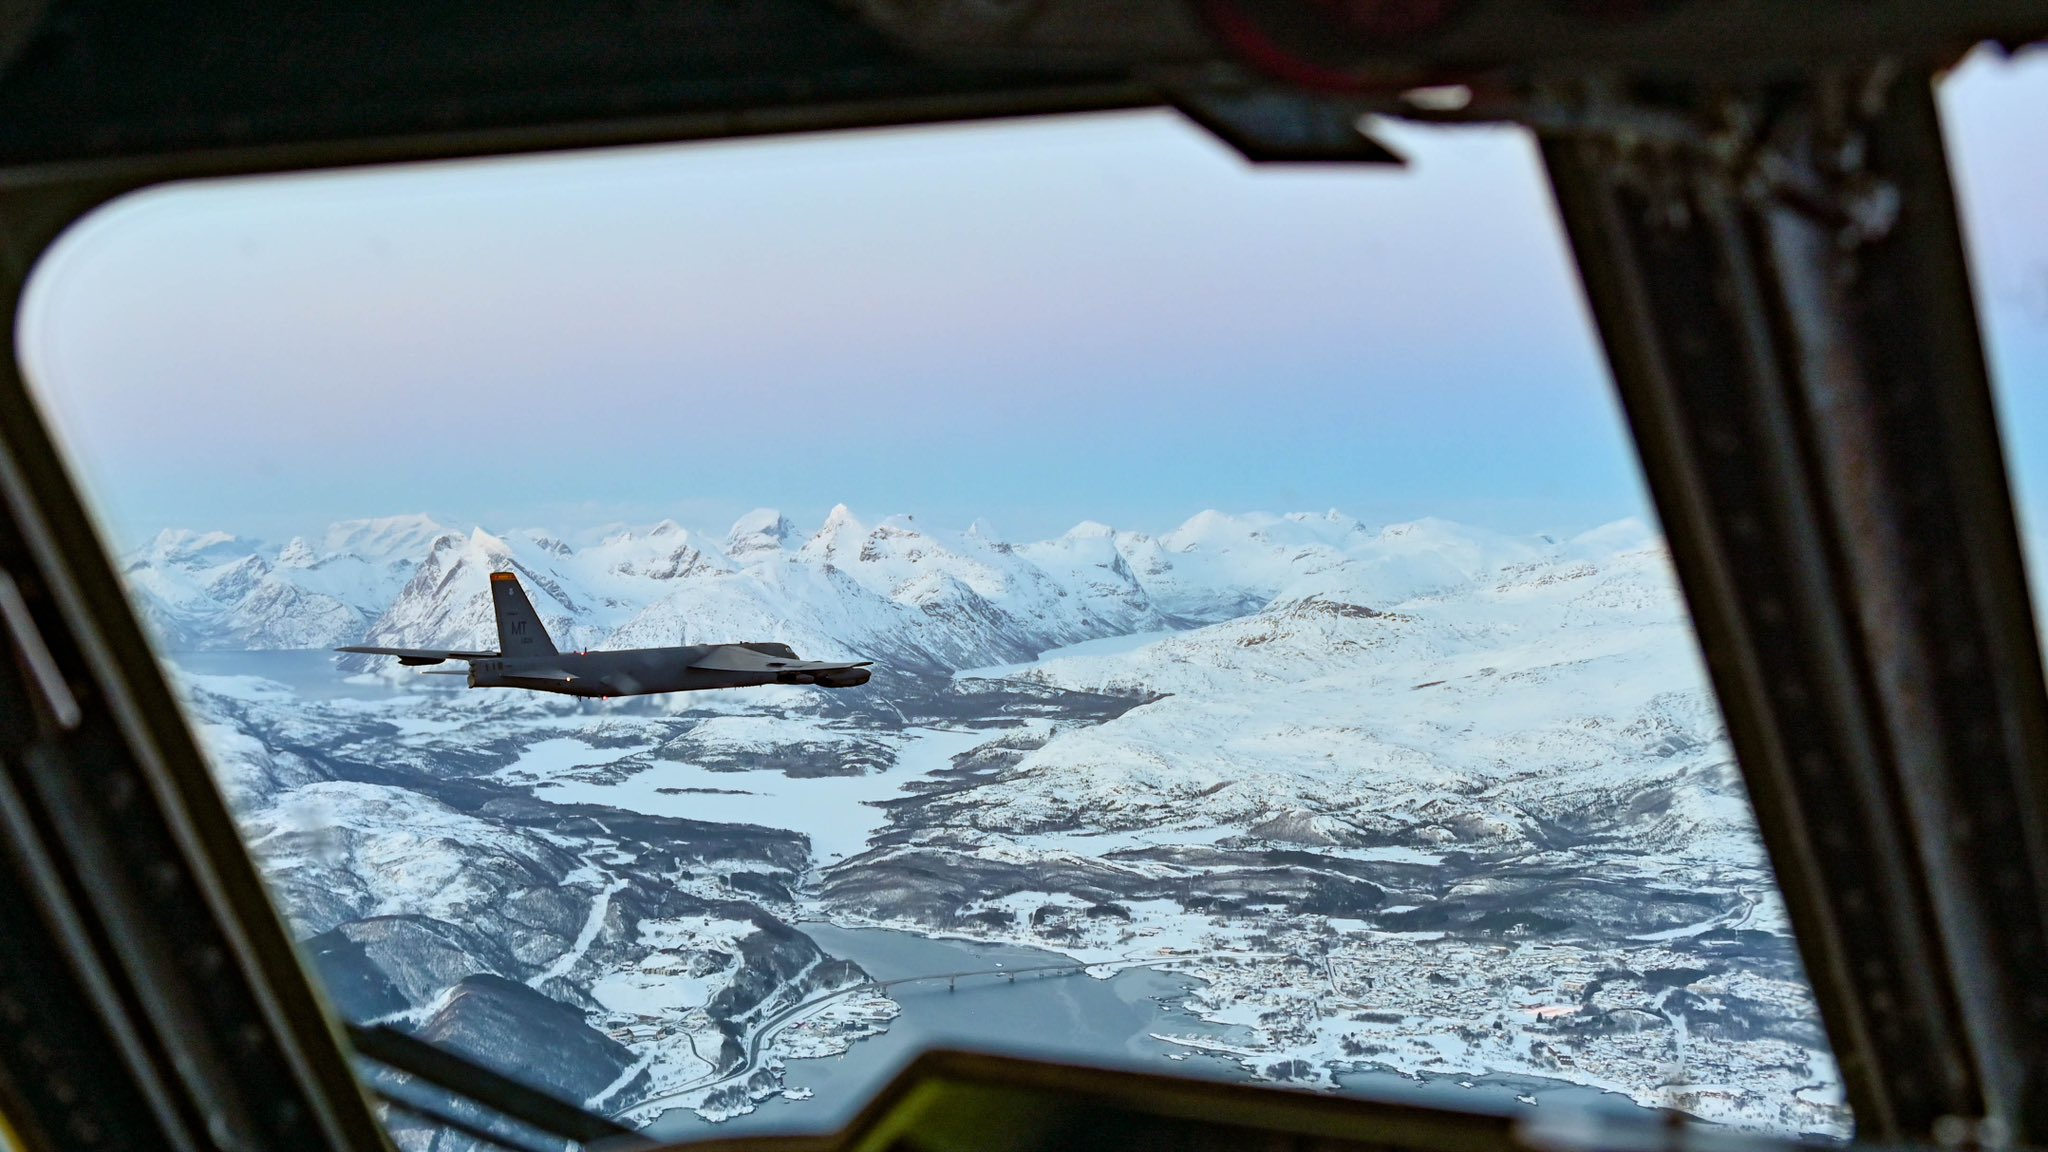B52: (332, 571, 873, 700)
